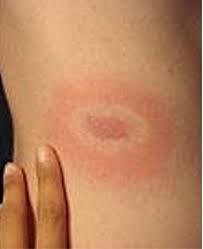Tick: (64, 102, 152, 155)
